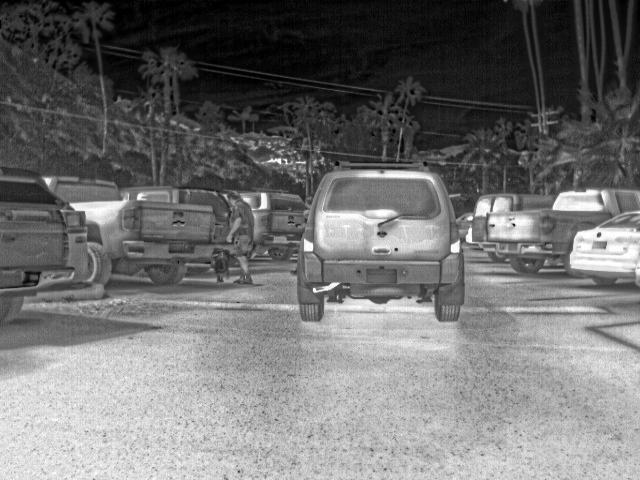car: (296, 160, 464, 322), (40, 174, 215, 289), (486, 188, 638, 274), (121, 183, 236, 257), (0, 207, 71, 323), (471, 195, 559, 263), (567, 210, 639, 291), (228, 190, 306, 261), (0, 168, 73, 208), (457, 212, 472, 245)
dog: (212, 256, 226, 283)
person: (226, 190, 255, 286)
